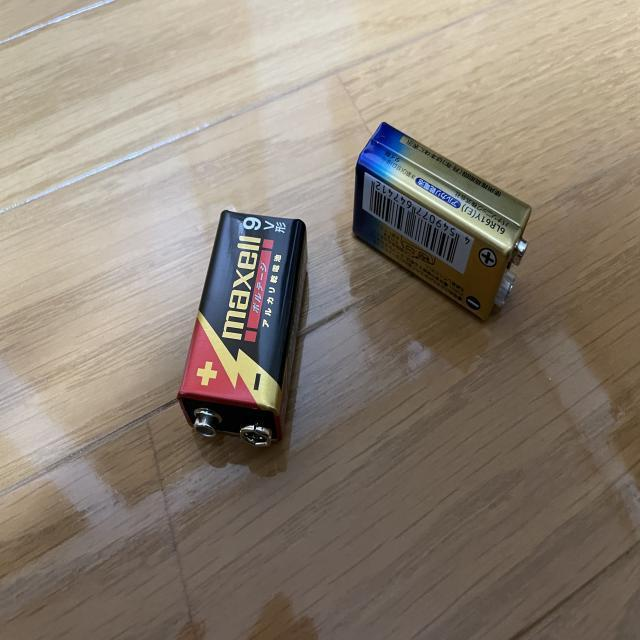9V: (351, 121, 532, 323), (178, 207, 309, 448)
